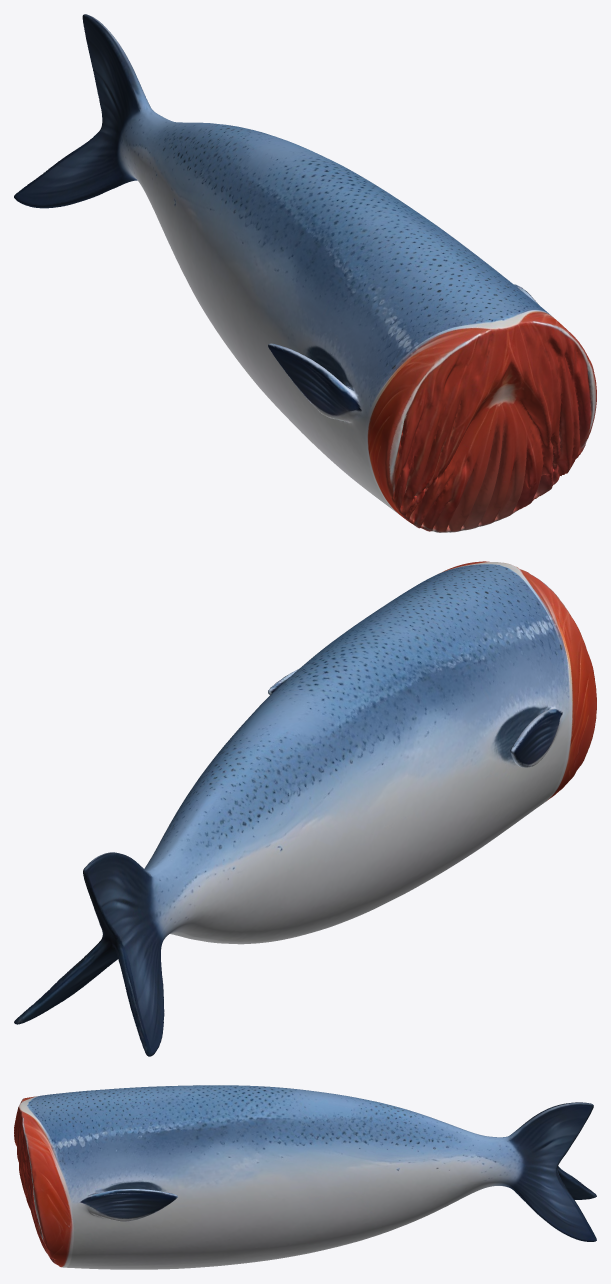
The model's file is tripo_convert_6b3741ee-fbe4-40f9-a30e-ac4914e14e35.fbx.
The picture shows the model from 3 angles, top to bottom: view 1: azimuth 30°, elevation 25°; view 2: azimuth 150°, elevation 25°; view 3: azimuth 270°, elevation 25°; orthographic projection. The views are drawn at different scales.
Visible parts, largest first — view 1: tripo_node_6b3741ee; view 2: tripo_node_6b3741ee; view 3: tripo_node_6b3741ee.
Part boxes in pixels (x1,y1,x2,y2): tripo_node_6b3741ee: [14, 14, 596, 532]; tripo_node_6b3741ee: [14, 561, 596, 1056]; tripo_node_6b3741ee: [14, 1085, 596, 1269].
Size of the model in its own units: 0.3327 by 0.3301 by 1.
